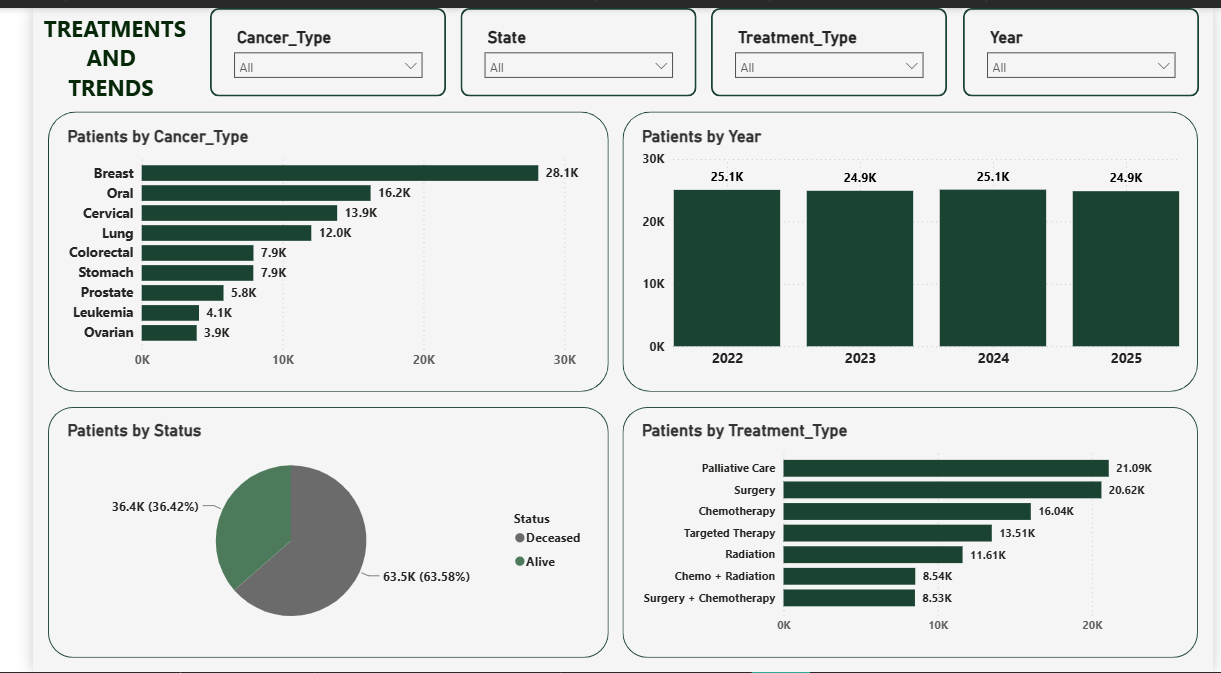

This screenshot's page, from the dashboard's own definition file:
{"tool":"powerbi","page":{"name":"Treatments and Trends ","canvas":[1280,720],"ordinal":1},"visuals":[{"type":"textbox","box":[0,0,176,112],"z":0},{"type":"shape","box":[192,0,256,96],"z":1000},{"type":"shape","box":[464,0,256,96],"z":2000},{"type":"shape","box":[736,0,256,96],"z":3000},{"type":"shape","box":[1008,0,256,96],"z":4000},{"type":"slicer","fields":{"Values":["india_cancer_patients_2022_2025 Cleaned.Cancer_Type"]},"box":[208,16,224,64],"z":5000},{"type":"slicer","fields":{"Values":["india_cancer_patients_2022_2025 Cleaned.State"]},"box":[480,16,224,64],"z":6000},{"type":"slicer","fields":{"Values":["india_cancer_patients_2022_2025 Cleaned.Treatment_Type"]},"box":[752,16,224,64],"z":7000},{"type":"slicer","fields":{"Values":["india_cancer_patients_2022_2025 Cleaned.Diagnosis_Date.Variation.Date Hierarchy.Year"]},"box":[1024,16,224,64],"z":8000},{"type":"shape","box":[16,112,608,304],"z":9000},{"type":"shape","box":[640,112,624,304],"z":10000},{"type":"shape","box":[16,432,608,272],"z":11000},{"type":"shape","box":[640,432,624,272],"z":12000},{"type":"clusteredBarChart","title":"Patients by Cancer_Type","fields":{"Category":["india_cancer_patients_2022_2025 Cleaned.Cancer_Type"],"Y":["Measures (2).Total Patients"]},"box":[32,128,576,272],"z":13000},{"type":"pieChart","title":"Patients by Status","fields":{"Y":["Measures (2).Total Patients"],"Category":["india_cancer_patients_2022_2025 Cleaned.Status"]},"box":[32,448,576,240],"z":14000},{"type":"columnChart","title":"Patients by Year","fields":{"Category":["india_cancer_patients_2022_2025 Cleaned.Diagnosis_Date.Variation.Date Hierarchy.Year"],"Y":["Measures (2).Total Patients"]},"box":[656,128,592,272],"z":15000},{"type":"clusteredBarChart","title":"Patients by Treatment_Type","fields":{"Y":["Measures (2).Total Patients"],"Category":["india_cancer_patients_2022_2025 Cleaned.Treatment_Type"]},"box":[656,448,592,240],"z":16000}]}

Visuals, with their boxes in screenshot pixels (x1, y1, x2, y2), scaled from the page's 1280x720 canvas onto the 1221x673 screenshot:
textbox: bbox=[0, 0, 168, 105]
shape: bbox=[183, 0, 427, 90]
shape: bbox=[443, 0, 687, 90]
shape: bbox=[702, 0, 946, 90]
shape: bbox=[962, 0, 1206, 90]
slicer - india_cancer_patients_2022_2025 Cleaned.Cancer_Type: bbox=[198, 15, 412, 75]
slicer - india_cancer_patients_2022_2025 Cleaned.State: bbox=[458, 15, 672, 75]
slicer - india_cancer_patients_2022_2025 Cleaned.Treatment_Type: bbox=[717, 15, 931, 75]
slicer - india_cancer_patients_2022_2025 Cleaned.Diagnosis_Date.Variation.Date Hierarchy.Year: bbox=[977, 15, 1190, 75]
shape: bbox=[15, 105, 595, 389]
shape: bbox=[610, 105, 1206, 389]
shape: bbox=[15, 404, 595, 658]
shape: bbox=[610, 404, 1206, 658]
"Patients by Cancer_Type" clusteredBarChart: bbox=[31, 120, 580, 374]
"Patients by Status" pieChart: bbox=[31, 419, 580, 643]
"Patients by Year" columnChart: bbox=[626, 120, 1190, 374]
"Patients by Treatment_Type" clusteredBarChart: bbox=[626, 419, 1190, 643]
